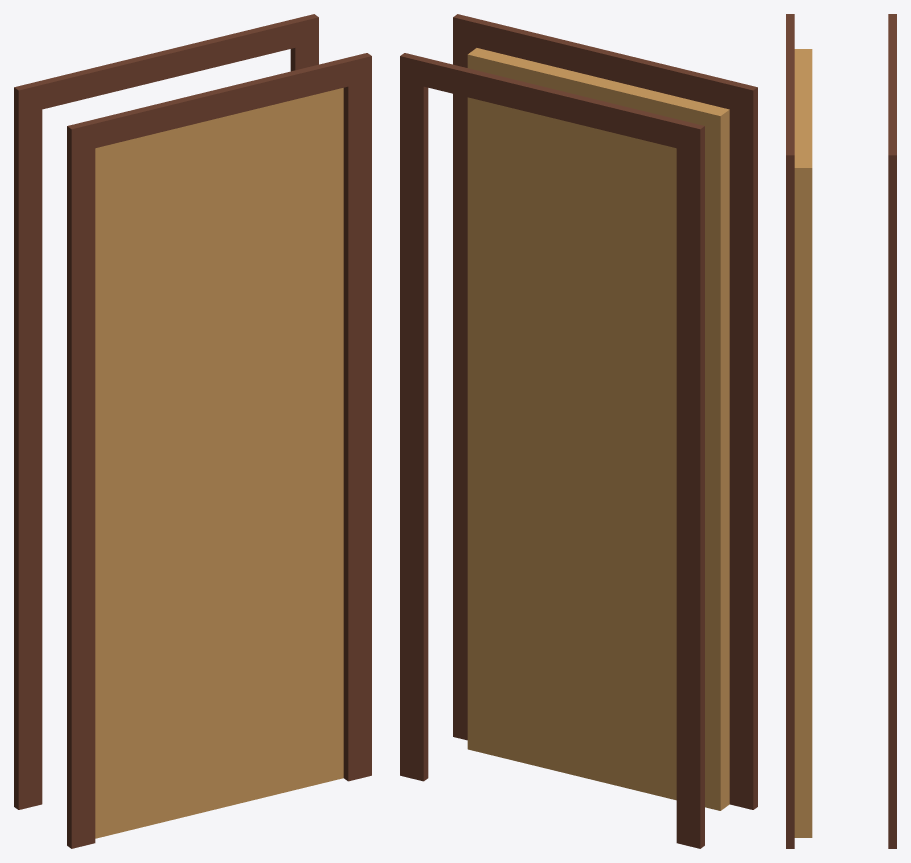
Rendered from Project4_IfcDoor.dae.
The picture shows the model from 3 angles, left to right: view 1: azimuth 30°, elevation 25°; view 2: azimuth 150°, elevation 25°; view 3: azimuth 270°, elevation 25°; orthographic projection. The views are drawn at different scales.
Parts seen in each view (by area): view 1: 3SmbFggWX7HupMOn27mrEl; view 2: 3SmbFggWX7HupMOn27mrEl; view 3: 3SmbFggWX7HupMOn27mrEl.
Part boxes in pixels (x1,y1,x2,y2): 3SmbFggWX7HupMOn27mrEl: [14, 14, 371, 848]; 3SmbFggWX7HupMOn27mrEl: [400, 14, 757, 848]; 3SmbFggWX7HupMOn27mrEl: [786, 14, 896, 848].
Bounding box in the file's own units: 0.965 × 0.32 × 2.21.
